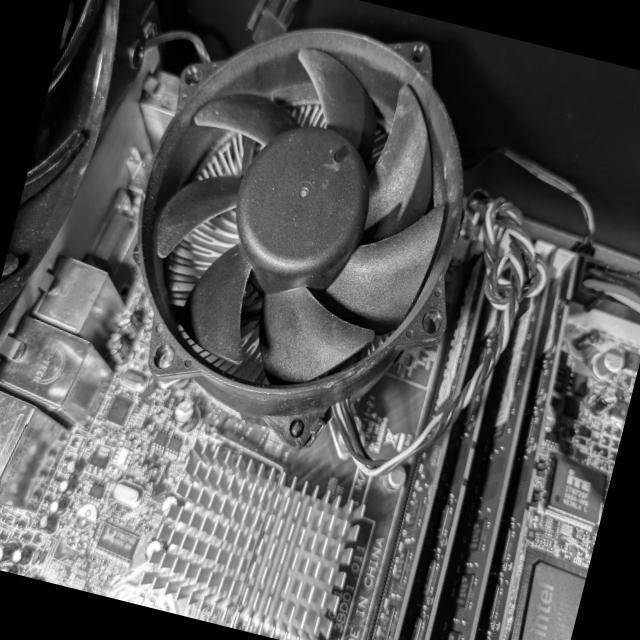CPU_Fan: (95, 0, 501, 460)
Mainboard: (0, 127, 640, 640)
RAM: (419, 237, 575, 640), (364, 217, 512, 640), (447, 247, 600, 640), (391, 230, 537, 640)
